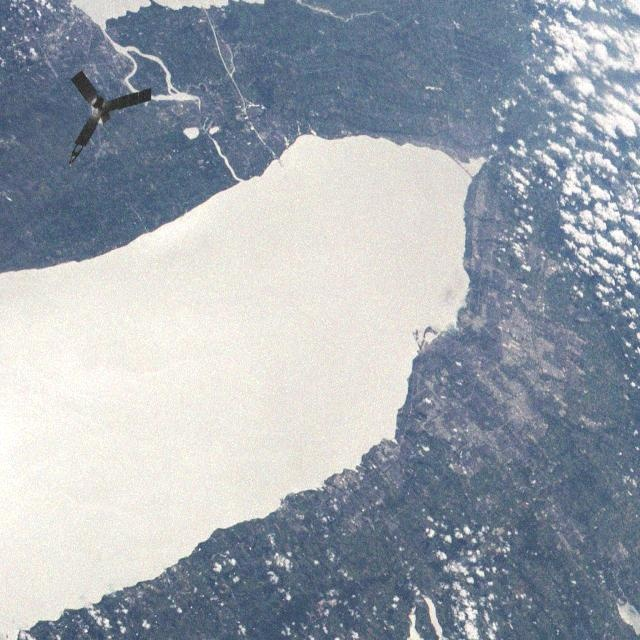satellite: (52, 49, 169, 170)
